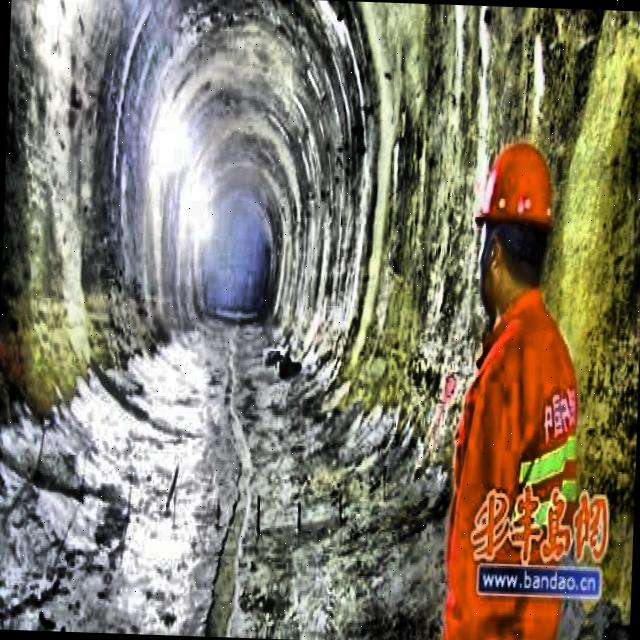helmet: (470, 130, 564, 314)
